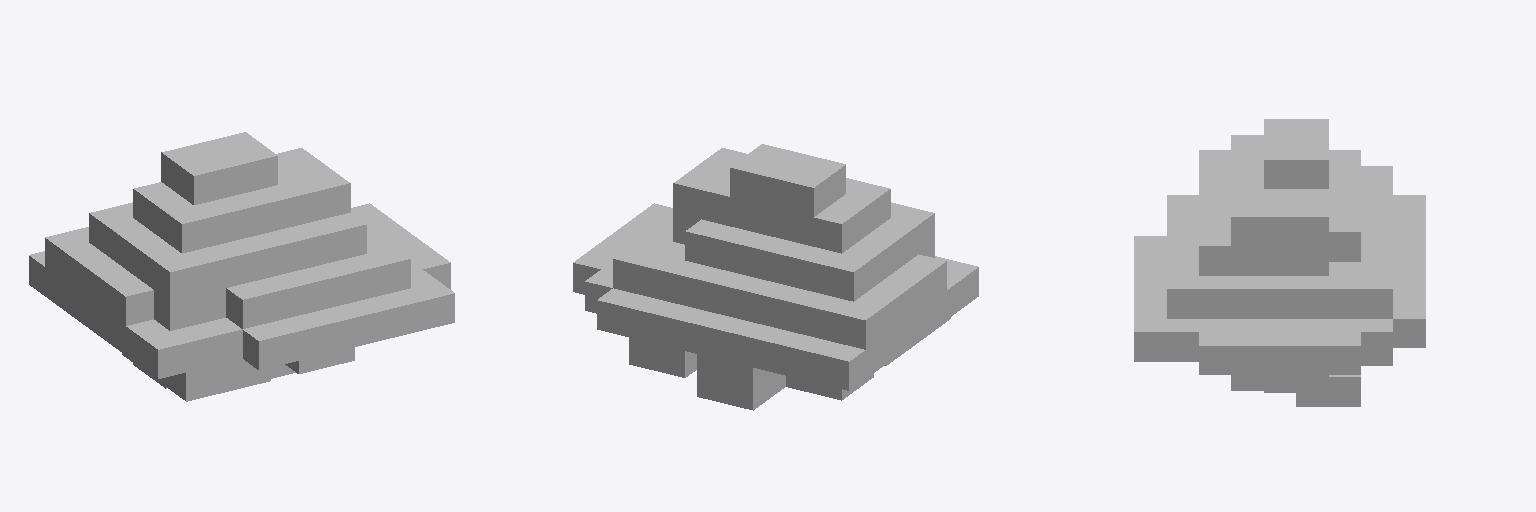
File: Rock2.obj
3 renders of one model, left to right at view 1: azimuth 30°, elevation 25°; view 2: azimuth 150°, elevation 25°; view 3: azimuth 270°, elevation 25°, orthographic.
Visible parts, largest first — view 1: object 1; view 2: object 1; view 3: object 1.
Part boxes in pixels (bbox=[...]): object 1: bbox=[29, 132, 454, 401]; object 1: bbox=[573, 144, 978, 410]; object 1: bbox=[1134, 119, 1425, 406].
Bounding box in the file's own units: 1.1 × 0.7 × 0.9.